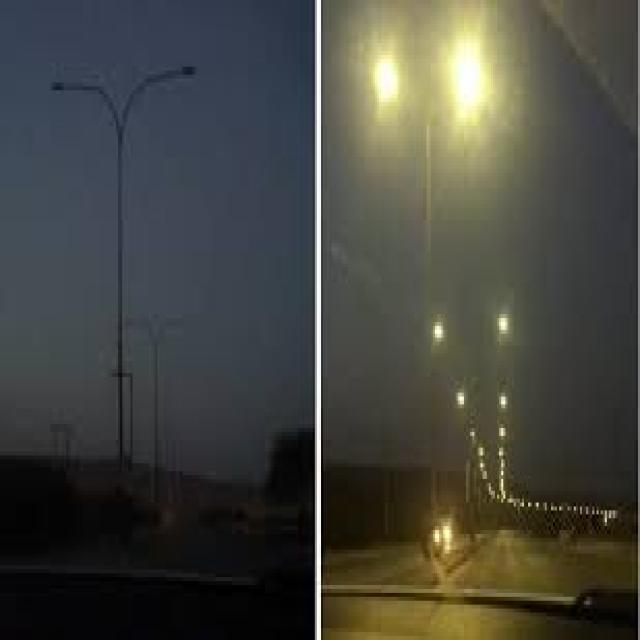Street Light: (48, 63, 198, 495), (373, 47, 480, 546)
